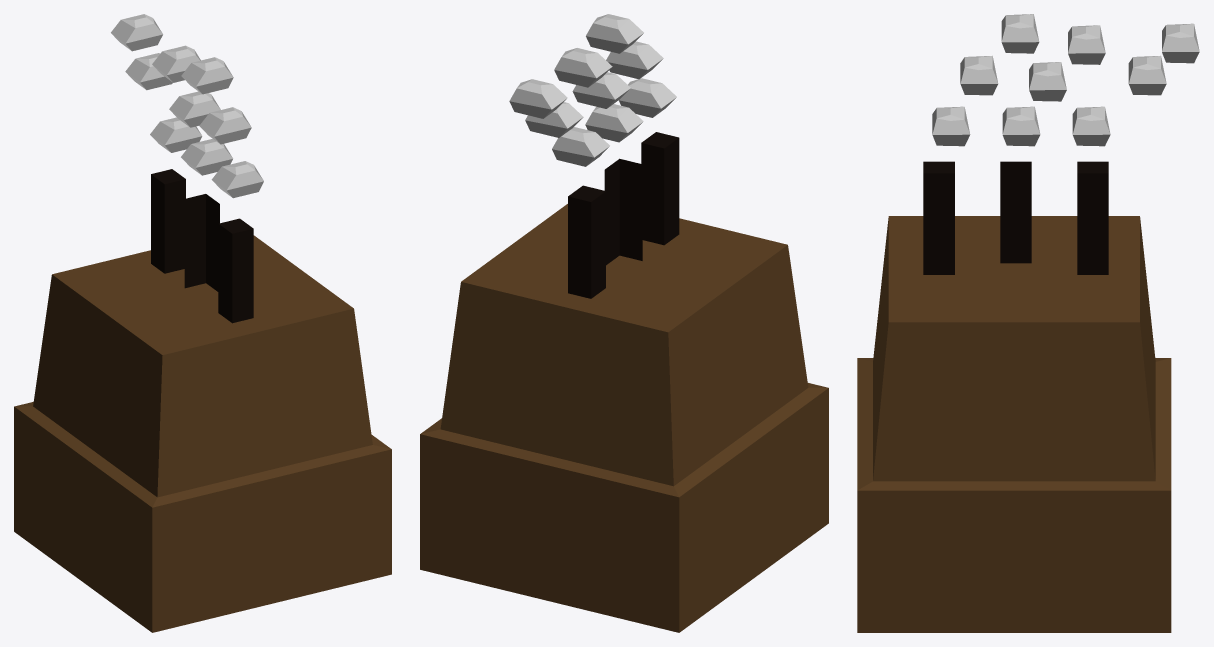
The model's file is factory.obj.
3 views of the same model, side by side, from view 1: azimuth 30°, elevation 25°; view 2: azimuth 150°, elevation 25°; view 3: azimuth 270°, elevation 25° (orthographic). The views are drawn at different scales.
Parts seen in each view (by area): view 1: Cube_Cube.002, Cube.008_Cube.009; view 2: Cube_Cube.002, Cube.008_Cube.009; view 3: Cube_Cube.002, Cube.008_Cube.009.
Part boxes in pixels (x1=…): Cube_Cube.002: x1=14, y1=169, x2=391, y2=632; Cube.008_Cube.009: x1=111, y1=14, x2=263, y2=198; Cube_Cube.002: x1=420, y1=132, x2=828, y2=632; Cube.008_Cube.009: x1=509, y1=14, x2=676, y2=166; Cube_Cube.002: x1=857, y1=161, x2=1171, y2=632; Cube.008_Cube.009: x1=932, y1=14, x2=1199, y2=146.
Bounding box in the file's own units: 22.4 × 43.54 × 24.42.
